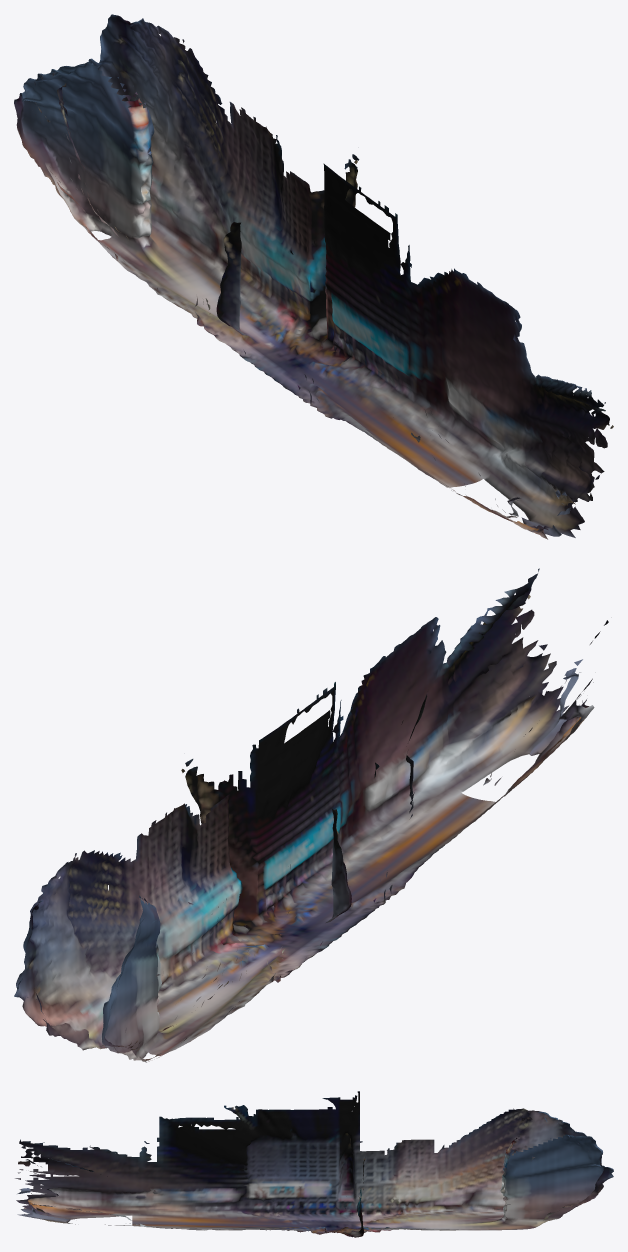
Rendered from Times Square city street_collider.glb.
The picture shows the model from 3 angles, top to bottom: view 1: azimuth 30°, elevation 25°; view 2: azimuth 150°, elevation 25°; view 3: azimuth 270°, elevation 25°; orthographic projection. The views are drawn at different scales.
Visible parts, largest first — view 1: world; view 2: world; view 3: world.
Part boxes in pixels (x1,y1,x2,y2): world: (14, 14, 613, 539); world: (14, 568, 608, 1062); world: (15, 1091, 613, 1237).
Size of the model in its own units: 55.31 by 68.55 by 300.
